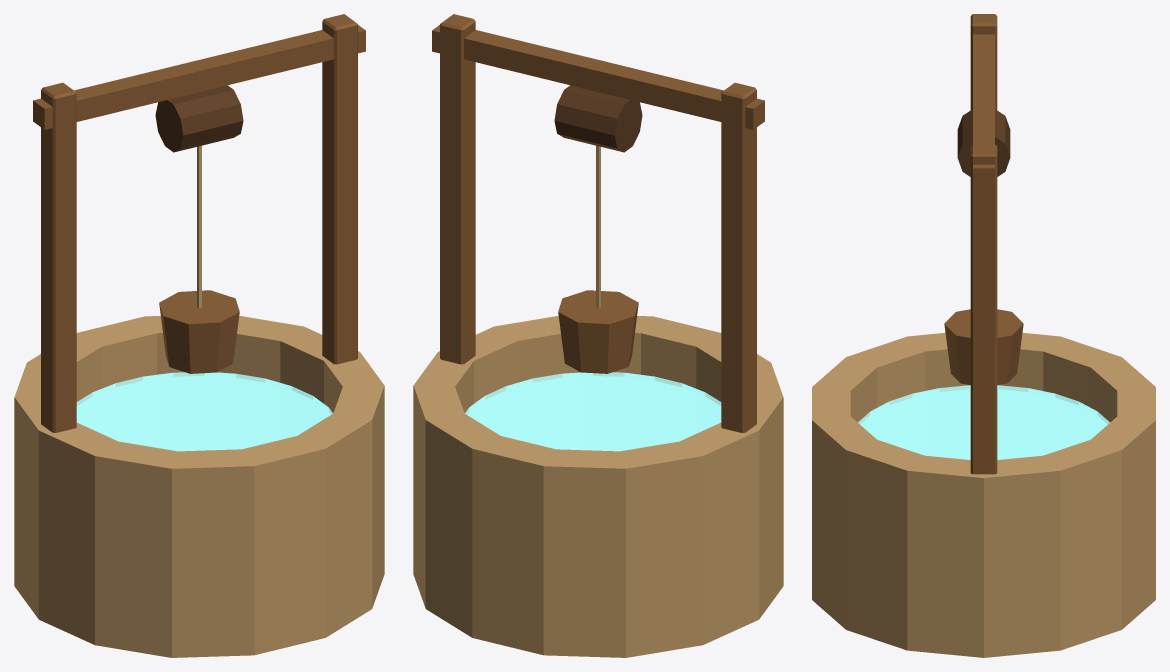
The model's file is map3_well_v01.glb.
3 views of the same model, side by side, from view 1: azimuth 30°, elevation 25°; view 2: azimuth 150°, elevation 25°; view 3: azimuth 270°, elevation 25° (orthographic). The views are drawn at different scales.
Parts seen in each view (by area): view 1: well; view 2: well; view 3: well.
Part boxes in pixels (<box>): well: <box>14,14,384,657</box>; well: <box>413,14,783,657</box>; well: <box>812,14,1155,657</box>.
Bounding box in the file's own units: 1.6 × 2.5 × 1.56.
